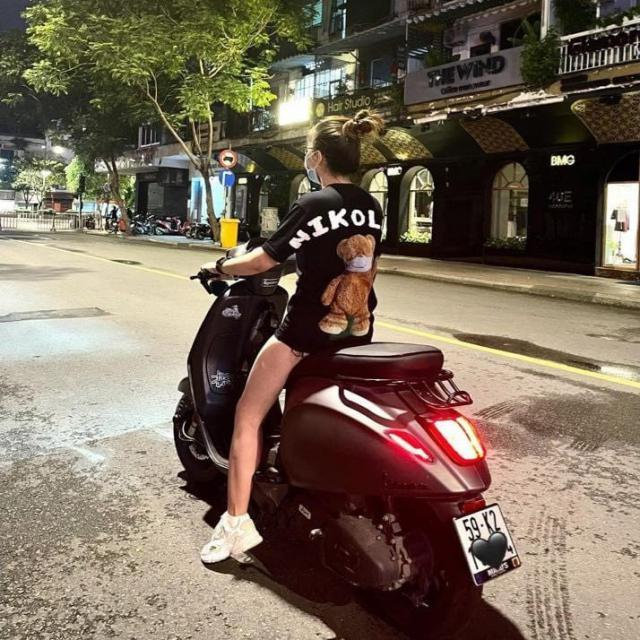Shirt: (253, 179, 389, 358)
